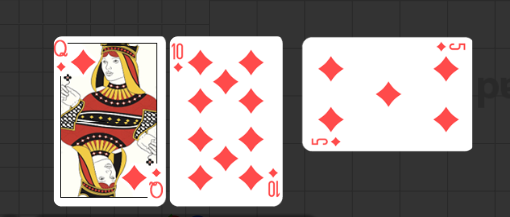10D: (266, 166, 280, 198)
9D: (434, 41, 467, 53)
QD: (66, 36, 110, 83), (133, 157, 177, 203)
